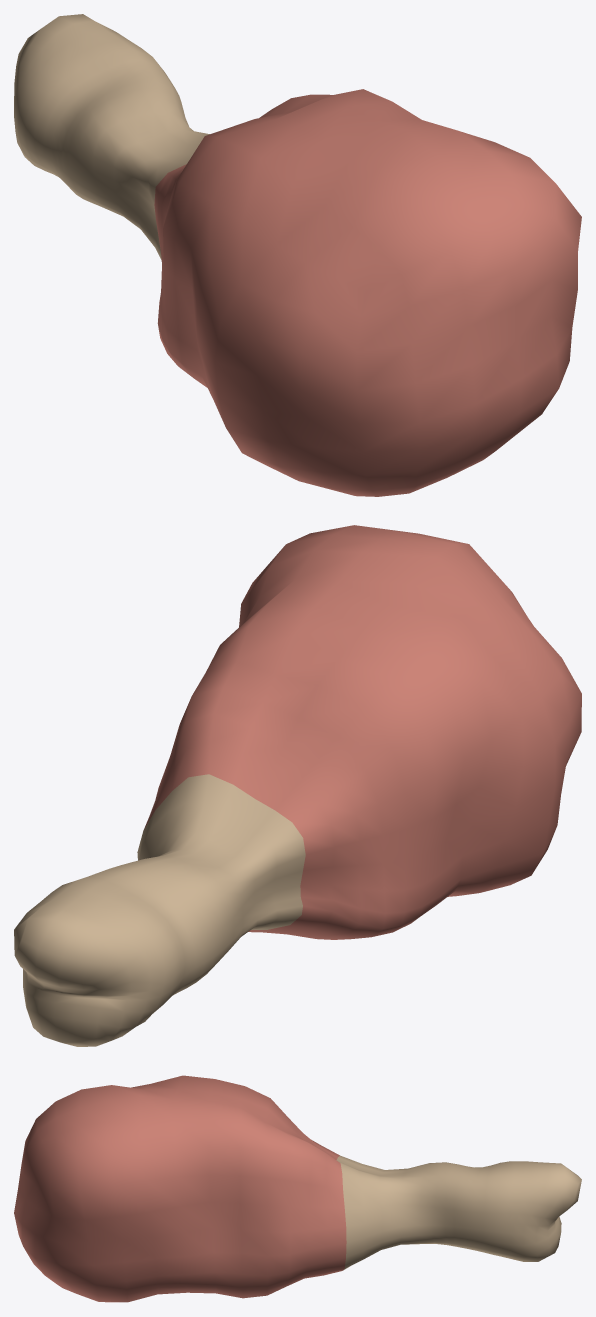
File: ayam.fbx
3 views of the same model, one above another, from view 1: azimuth 30°, elevation 25°; view 2: azimuth 150°, elevation 25°; view 3: azimuth 270°, elevation 25° (orthographic). The views are drawn at different scales.
Parts seen in each view (by area): view 1: ayam; view 2: ayam; view 3: ayam.
Part boxes in pixels (box(x1,y1,x2,y2)): ayam: box(14, 14, 581, 496); ayam: box(14, 525, 581, 1046); ayam: box(14, 1075, 581, 1302).
Bounding box in the file's own units: 23.89 × 22.56 × 56.45.
